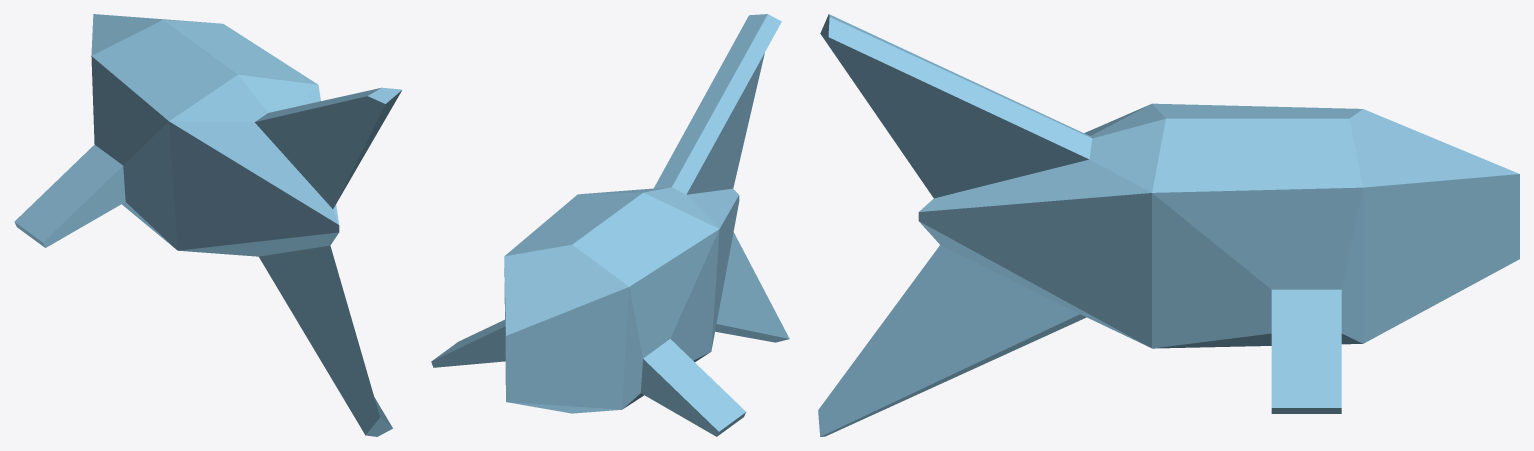
Rendered from FISH.fbx.
3 views of the same model, side by side, from view 1: azimuth 30°, elevation 25°; view 2: azimuth 150°, elevation 25°; view 3: azimuth 270°, elevation 25° (orthographic). The views are drawn at different scales.
Parts seen in each view (by area): view 1: Cube; view 2: Cube; view 3: Cube.
Boxes of the visible parts, <box> form: Cube: <box>14,14,401,436</box>; Cube: <box>431,14,789,436</box>; Cube: <box>818,14,1519,436</box>.
Size of the model in its own units: 406 by 443 by 665.
